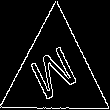M_SE: (27, 39, 84, 106)
